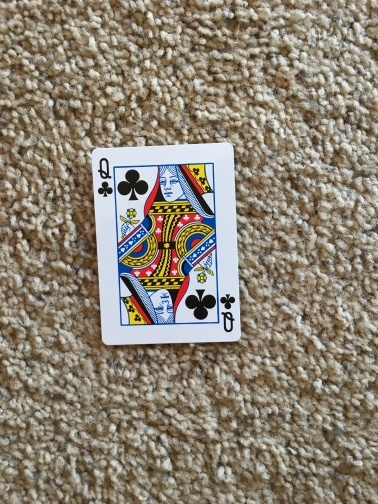queen: (93, 148, 238, 341)
